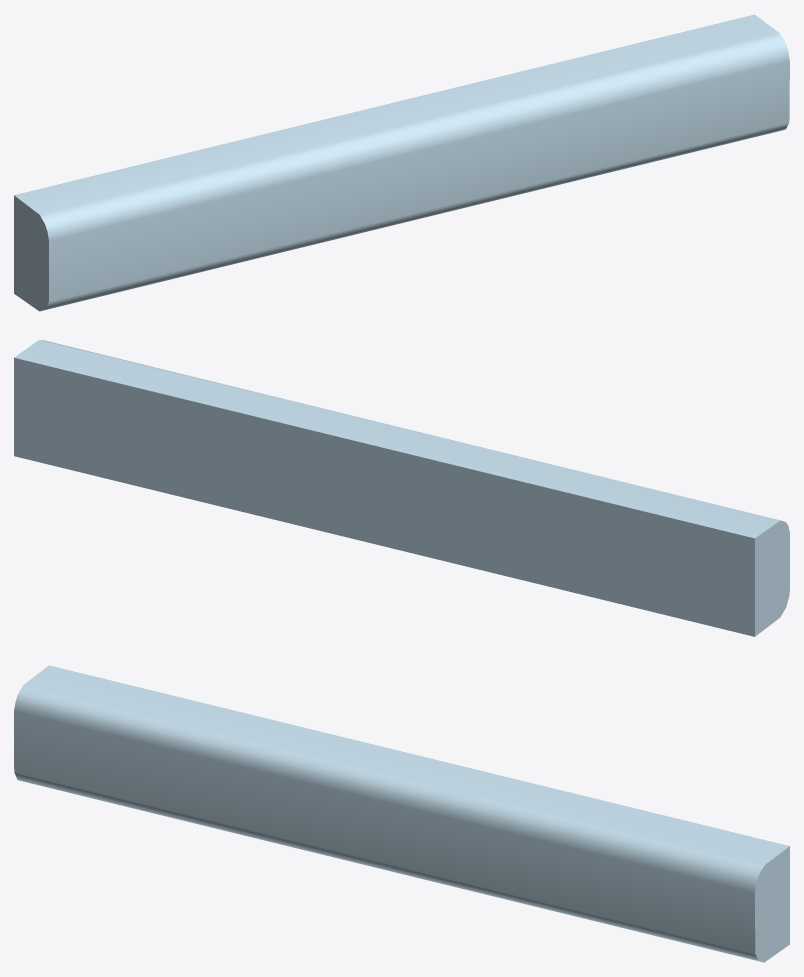
The model's file is BumperSegment.fbx.
3 renders of one model, top to bottom at view 1: azimuth 30°, elevation 25°; view 2: azimuth 150°, elevation 25°; view 3: azimuth 330°, elevation 25°, orthographic.
Visible parts, largest first — view 1: BumperSegment; view 2: BumperSegment; view 3: BumperSegment.
Part boxes in pixels (left/top/right/bottom): BumperSegment: left=14, top=14, right=789, bottom=311; BumperSegment: left=14, top=340, right=789, bottom=636; BumperSegment: left=14, top=665, right=789, bottom=962.
Bounding box in the file's own units: 100 × 12.7 × 8.22.
